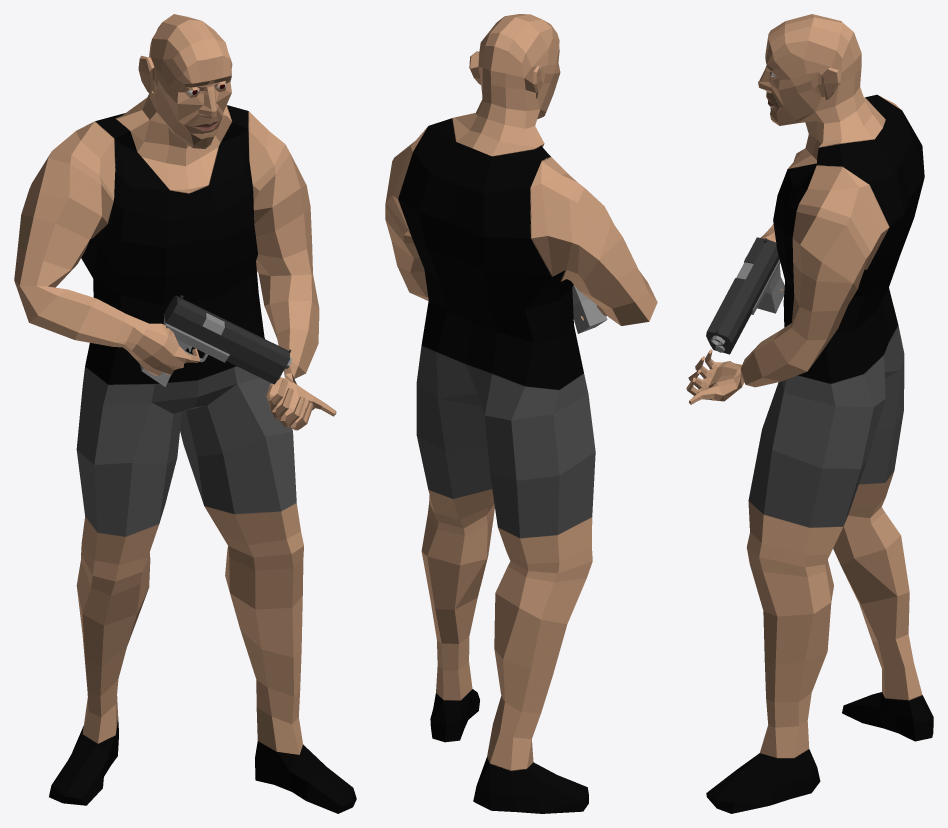
The model's file is PlayerIdle(4).obj.
3 renders of one model, left to right at view 1: azimuth 30°, elevation 25°; view 2: azimuth 150°, elevation 25°; view 3: azimuth 270°, elevation 25°, orthographic. The views are drawn at different scales.
Parts seen in each view (by area): view 1: Plane002, Box003; view 2: Plane002, Box003; view 3: Plane002, Box003.
Part boxes in pixels (box(x1,y1,x2,y2)): Plane002: box(14, 14, 356, 813); Box003: box(140, 295, 291, 387); Plane002: box(385, 14, 657, 813); Box003: box(572, 284, 607, 333); Plane002: box(686, 14, 933, 813); Box003: box(706, 237, 784, 354).
Bounding box in the file's own units: 678 × 1806 × 548.
